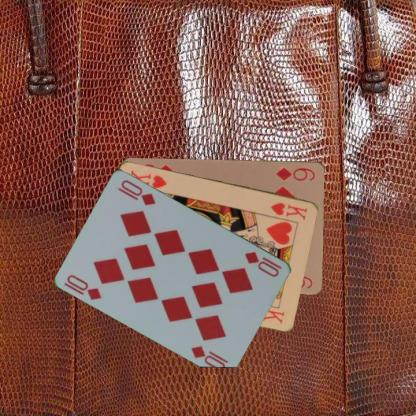10d: (61, 272, 104, 301), (242, 249, 284, 278)
6d: (273, 165, 316, 182)
Kh: (268, 200, 309, 222)
